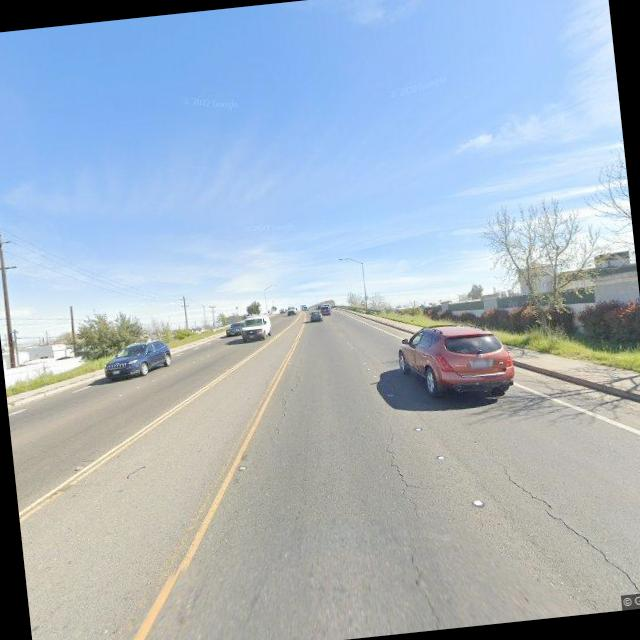pothole: (495, 448, 640, 602), (378, 425, 424, 521), (401, 542, 448, 632), (263, 363, 308, 439)
